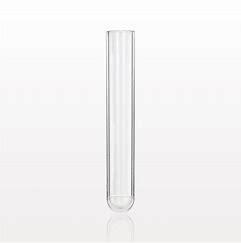Test tube: (97, 19, 144, 216)
